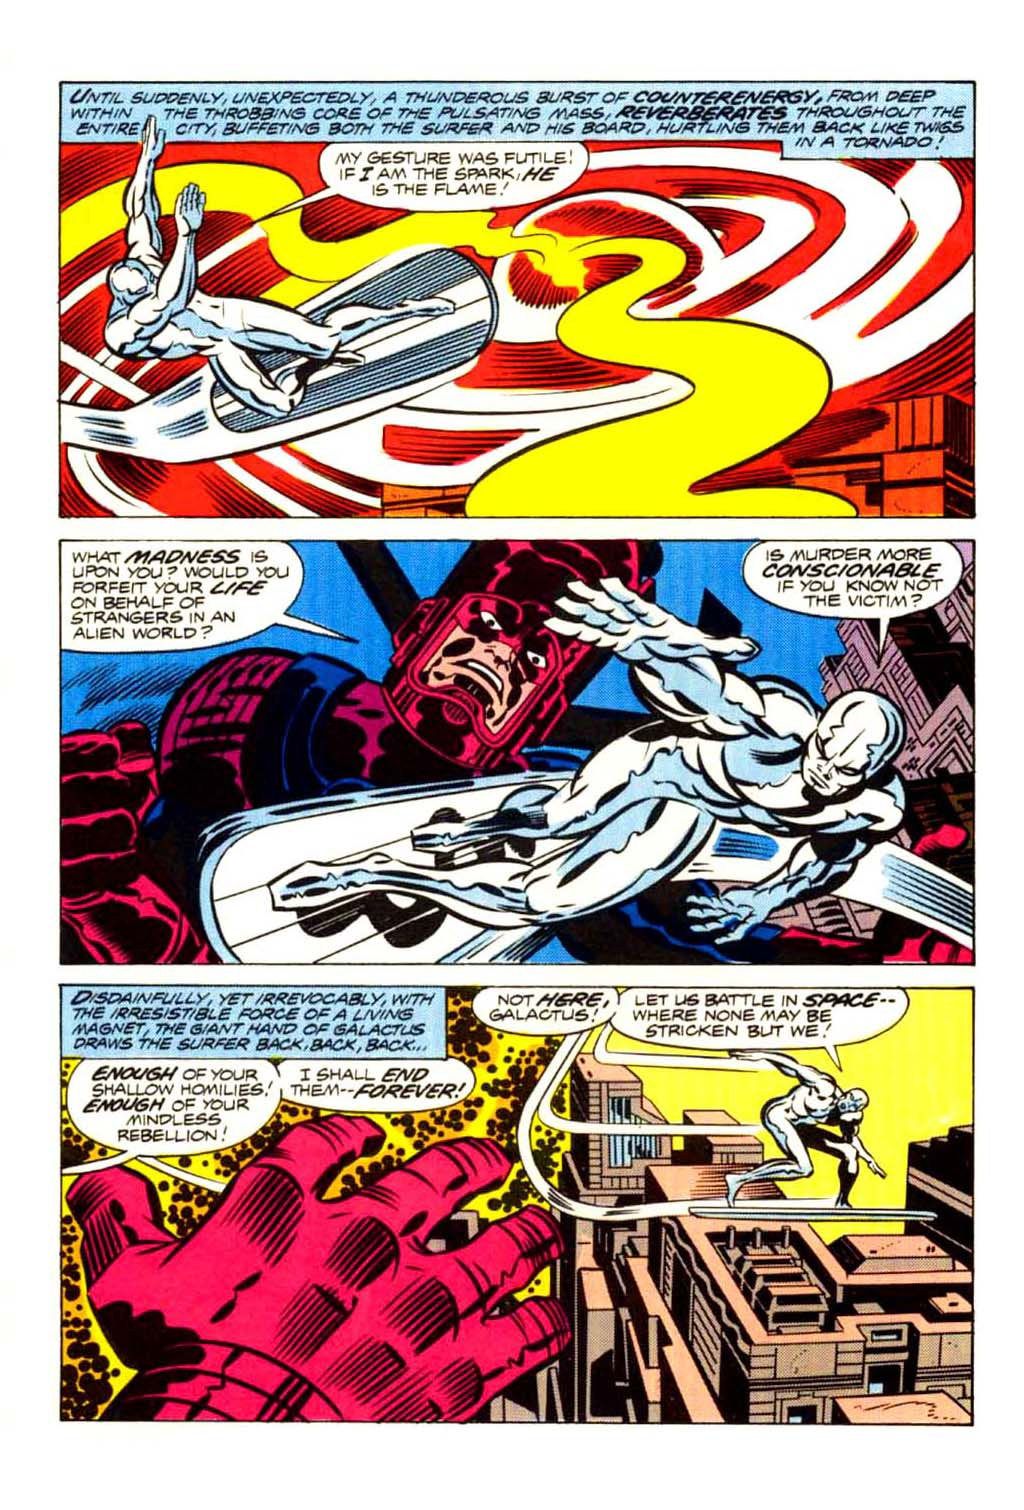Baloon: (59, 83, 978, 162), (62, 983, 453, 1058), (62, 541, 311, 641), (301, 136, 590, 211), (62, 1058, 283, 1155), (622, 990, 913, 1058), (739, 536, 965, 620), (283, 1058, 474, 1108), (475, 980, 618, 1036)
Vignetta: (57, 985, 978, 1429), (55, 80, 978, 516), (59, 543, 981, 962)
